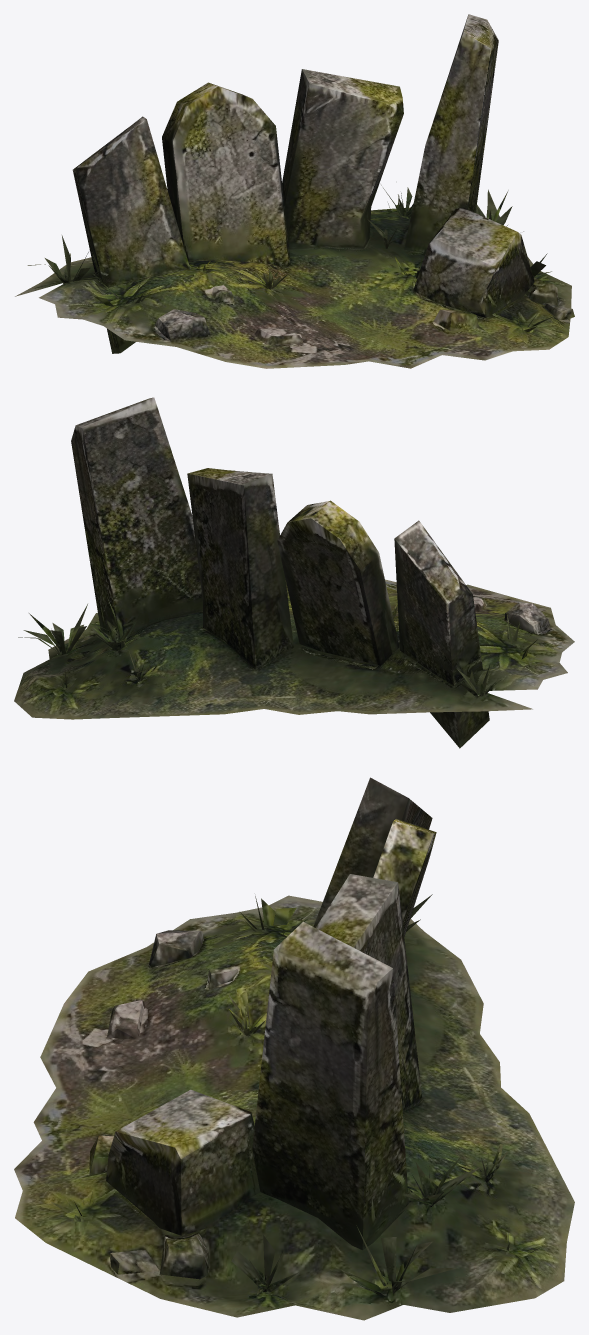
File: act1_kit_v1_headstones.glb
The picture shows the model from 3 angles, top to bottom: view 1: azimuth 30°, elevation 25°; view 2: azimuth 150°, elevation 25°; view 3: azimuth 270°, elevation 25°; orthographic projection. The views are drawn at different scales.
Visible parts, largest first — view 1: A02_3_headstones; view 2: A02_3_headstones; view 3: A02_3_headstones.
Part boxes in pixels (bbox=[...]): A02_3_headstones: bbox=[15, 14, 574, 368]; A02_3_headstones: bbox=[14, 397, 574, 748]; A02_3_headstones: bbox=[14, 777, 574, 1320].
Bounding box in the file's own units: 0.9582 × 0.467 × 0.6883.
Materials: 1 (1 with a texture image).
